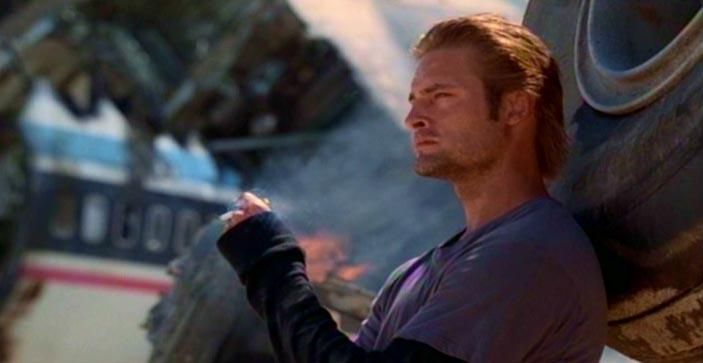smoking: (206, 194, 288, 235)
